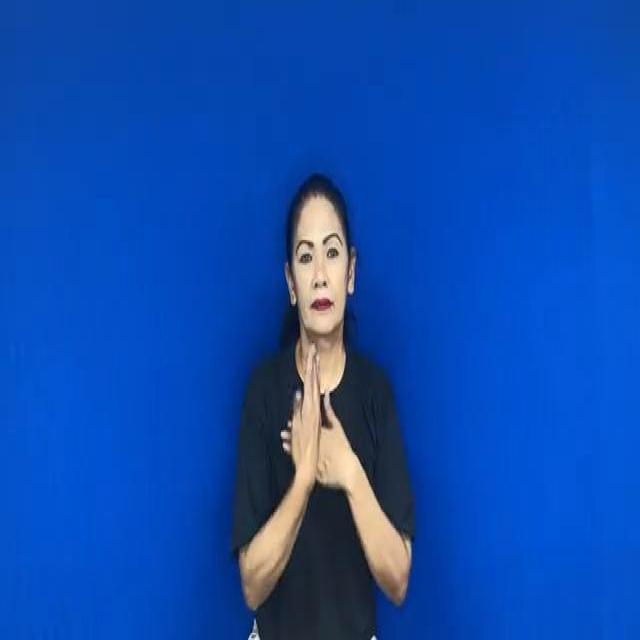bread: (275, 348, 360, 511)
